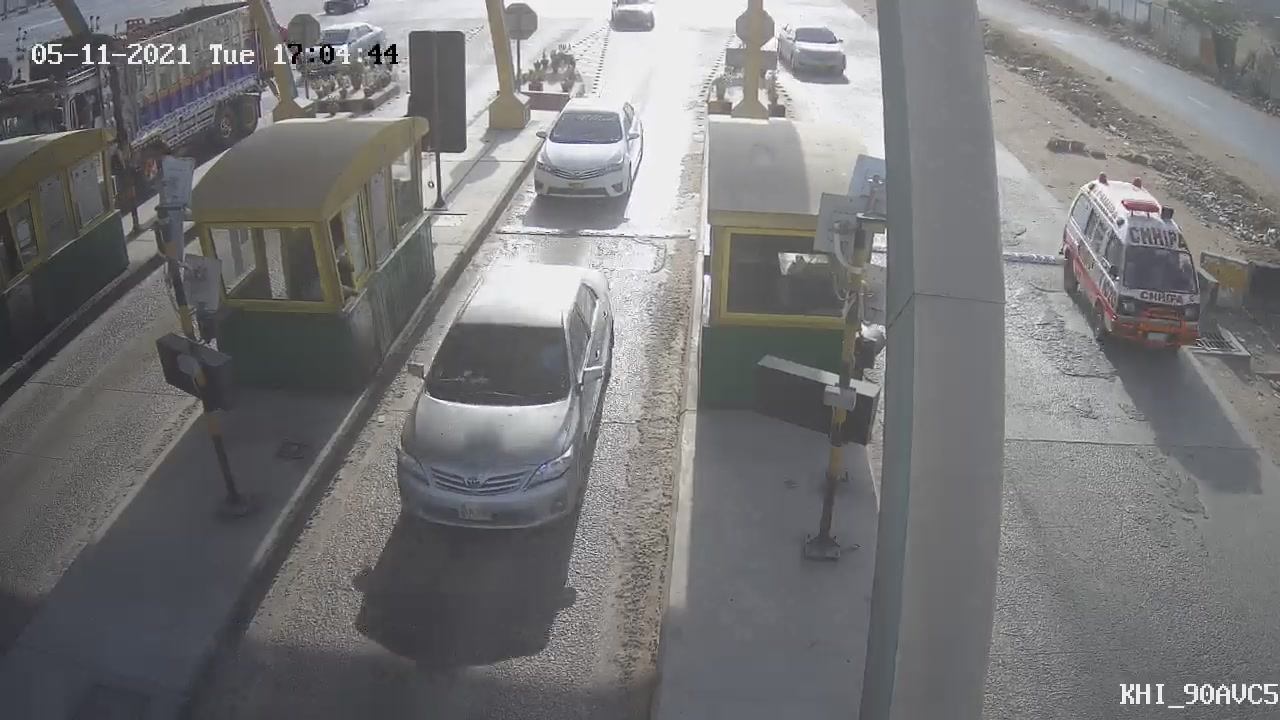F1: (376, 244, 631, 549), (516, 83, 656, 222)
